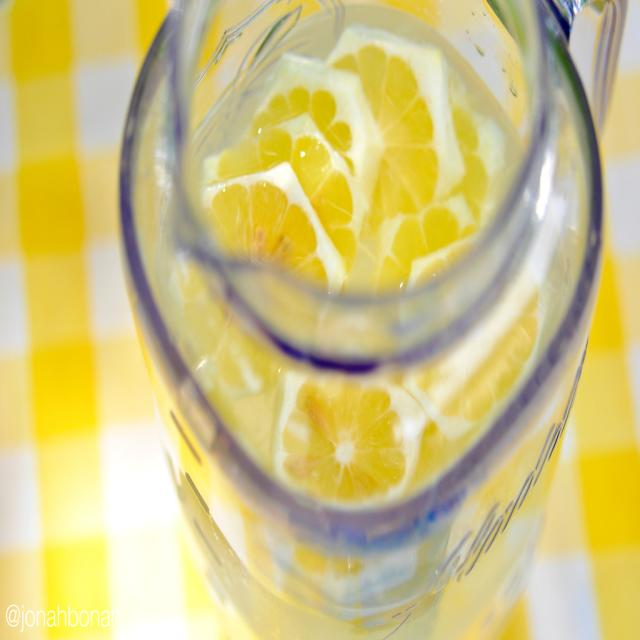Lemon: (176, 21, 547, 586)
